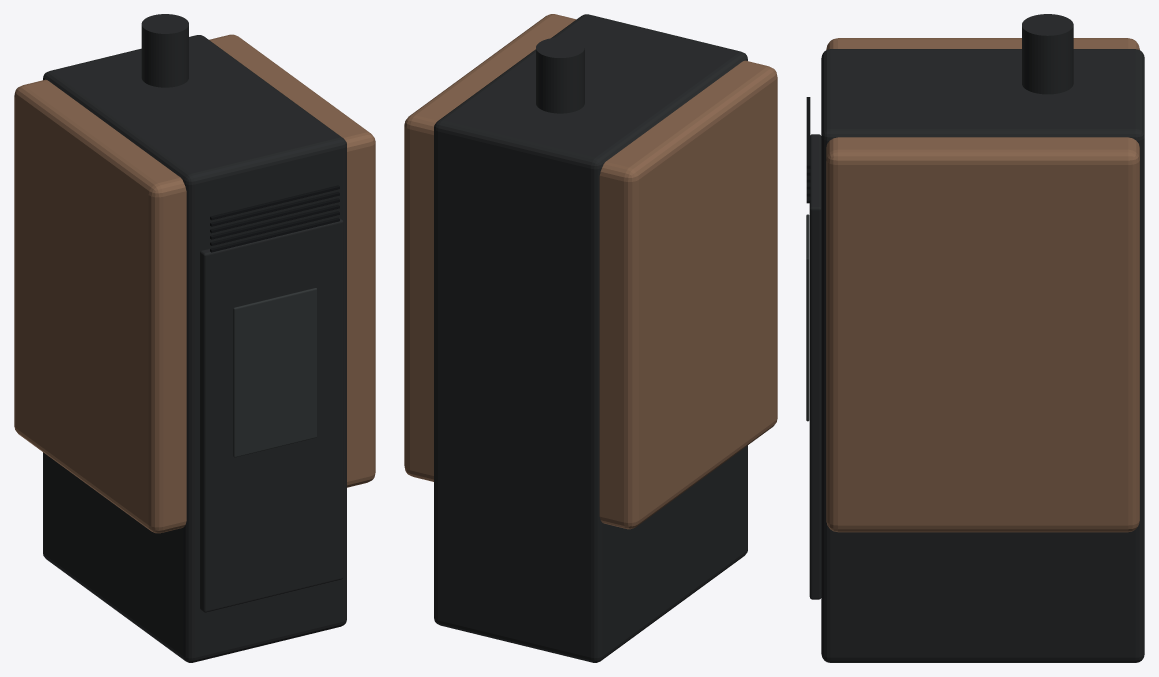
The model's file is ravelli-s90-bronzo.glb.
3 views of the same model, side by side, from view 1: azimuth 30°, elevation 25°; view 2: azimuth 150°, elevation 25°; view 3: azimuth 270°, elevation 25° (orthographic). The views are drawn at different scales.
Parts seen in each view (by area): view 1: Rivestimento laterale, Corpo, Porta, Rivestimento laterale.001, Vetro sportello, Scarico superiore, Griglia superiore.003, Griglia superiore.005, Griglia superiore.002, Griglia superiore.001, Griglia superiore.004, Griglia superiore; view 2: Corpo, Rivestimento laterale, Rivestimento laterale.001, Scarico superiore; view 3: Rivestimento laterale.001, Corpo, Porta, Scarico superiore, Rivestimento laterale, Vetro sportello.
Part boxes in pixels (box(x1,y1,x2,y2)): Rivestimento laterale: box(14, 79, 186, 533); Corpo: box(43, 35, 346, 662); Porta: box(200, 218, 343, 612); Rivestimento laterale.001: box(209, 34, 375, 487); Vetro sportello: box(233, 288, 317, 457); Scarico superiore: box(141, 14, 188, 87); Griglia superiore.003: box(210, 204, 339, 239); Griglia superiore.005: box(210, 217, 339, 252); Griglia superiore.002: box(210, 198, 339, 233); Griglia superiore.001: box(210, 191, 339, 226); Griglia superiore.004: box(210, 211, 339, 245); Griglia superiore: box(210, 185, 339, 220); Corpo: box(434, 14, 747, 662); Rivestimento laterale: box(599, 60, 777, 529); Rivestimento laterale.001: box(404, 14, 576, 481); Scarico superiore: box(536, 37, 584, 113); Rivestimento laterale.001: box(826, 137, 1139, 532); Corpo: box(821, 49, 1144, 662); Porta: box(809, 134, 821, 599); Scarico superiore: box(1022, 14, 1073, 94); Rivestimento laterale: box(826, 38, 1139, 49); Vetro sportello: box(806, 214, 809, 421).
Bounding box in the file's own units: 0.44 × 1.02 × 0.5235.
